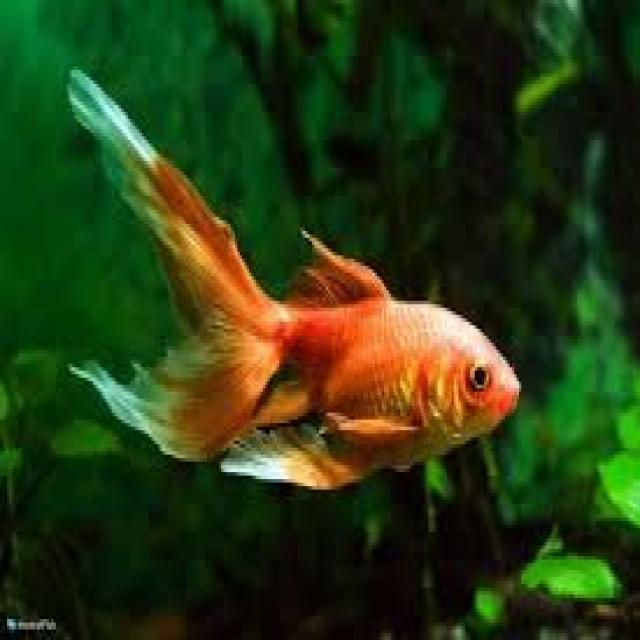Gold-Fish: (17, 3, 580, 550)
